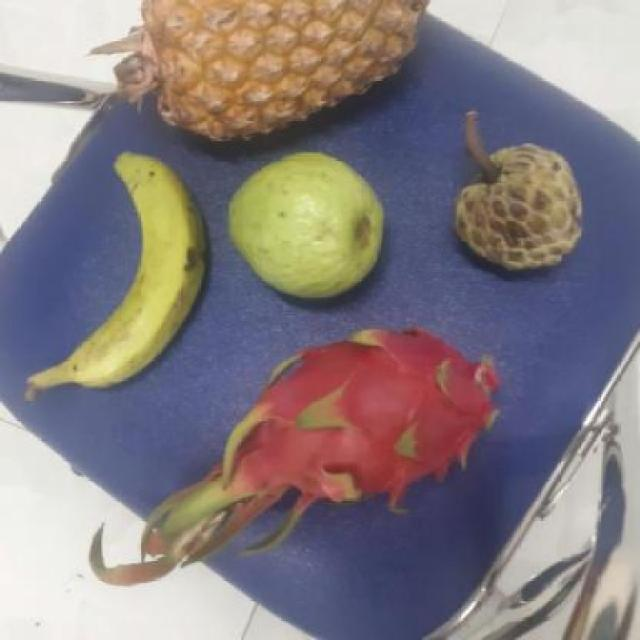banana: (49, 151, 216, 394)
dragon fruit: (231, 320, 507, 512)
guava: (228, 154, 390, 295)
pineapple: (144, 0, 430, 142)
sugar apple: (456, 140, 590, 274)
